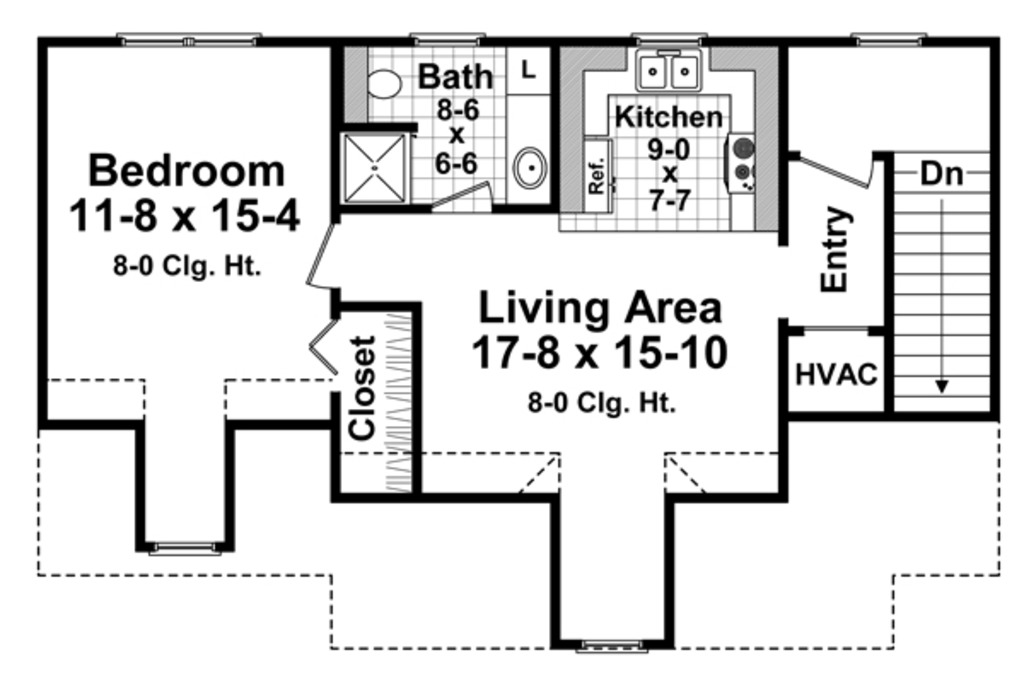door: (795, 141, 879, 192), (301, 222, 345, 296), (430, 180, 496, 213)
small_sink: (503, 116, 549, 200)
stairs: (883, 147, 997, 419)
twin_sink: (632, 35, 710, 94)
window: (119, 26, 266, 50), (141, 534, 229, 560), (576, 635, 648, 661), (850, 32, 927, 53), (405, 32, 488, 50)
